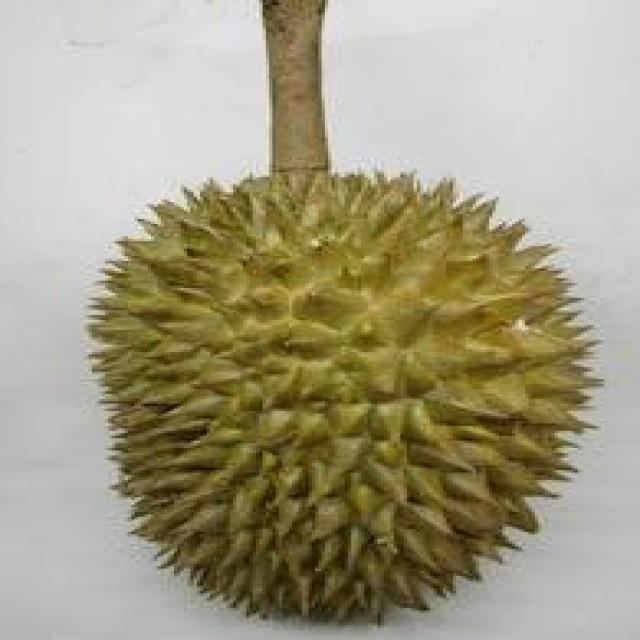immature: (71, 164, 610, 634)
